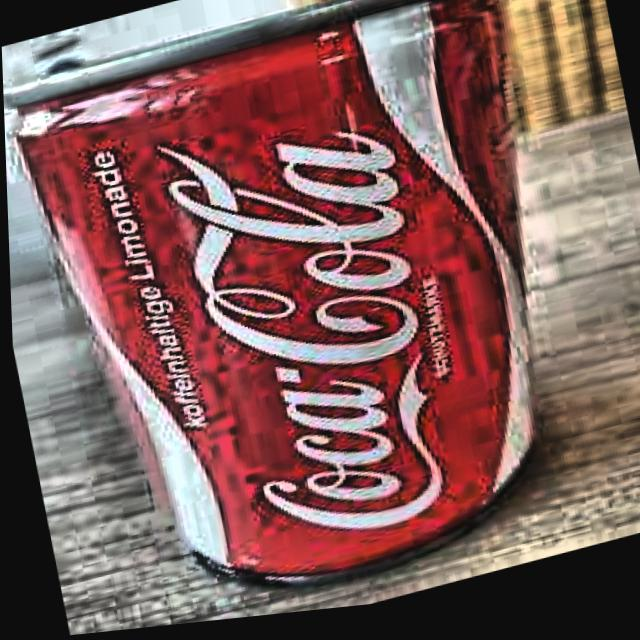Cans: (0, 0, 634, 640)
